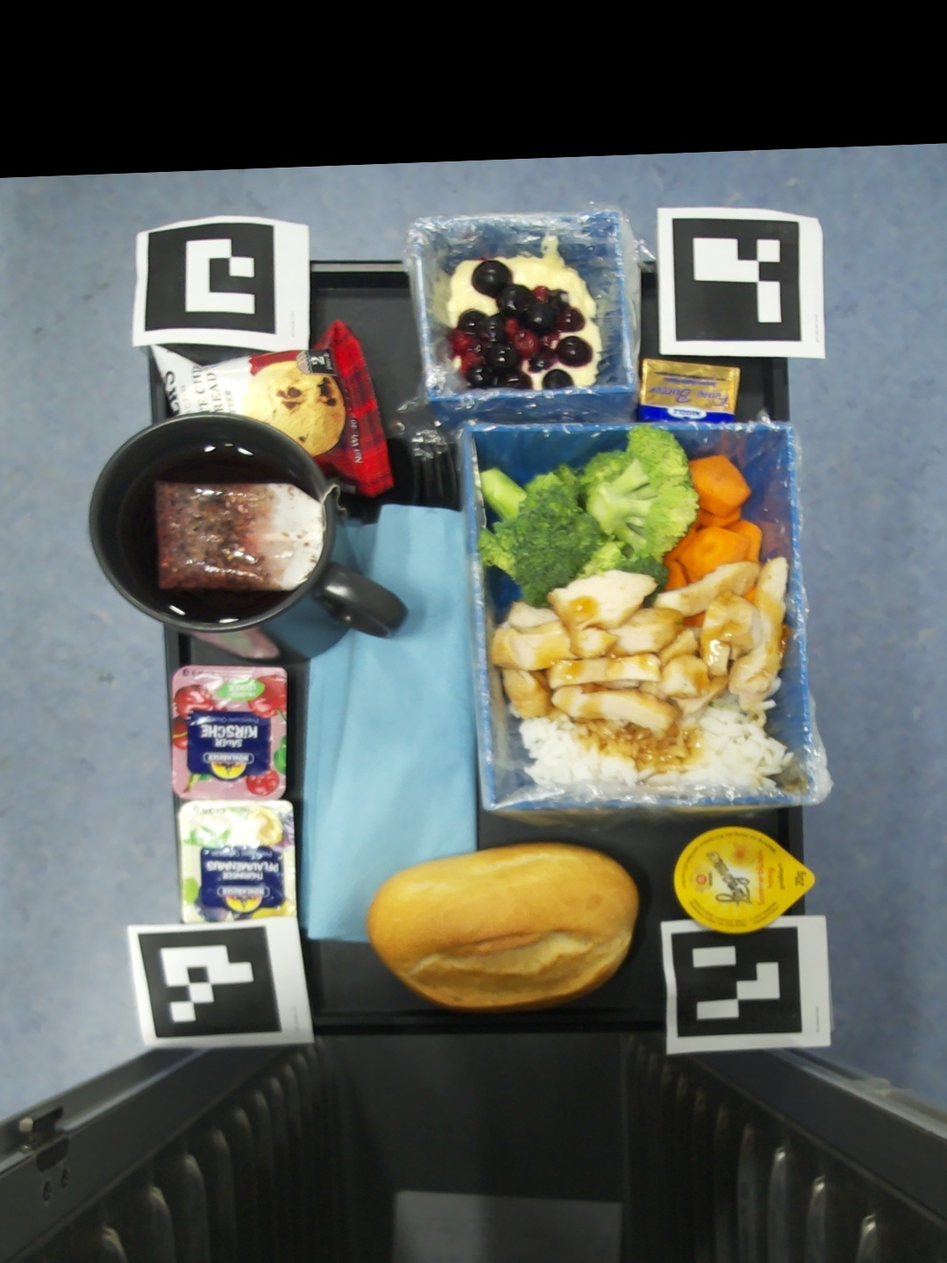bread_roll: (366, 842, 640, 1011)
broccoli: (480, 424, 701, 609)
butter: (635, 355, 742, 423)
carrots: (663, 454, 762, 590)
cherry_jam: (171, 664, 287, 800)
chicken: (491, 557, 791, 741)
cookie: (151, 319, 394, 496)
honey: (674, 828, 815, 933)
plum_jam: (177, 799, 298, 923)
rice: (520, 674, 794, 791)
tea_cup: (88, 414, 409, 663)
vanilla_pudding_with_fruits: (445, 257, 602, 390)
